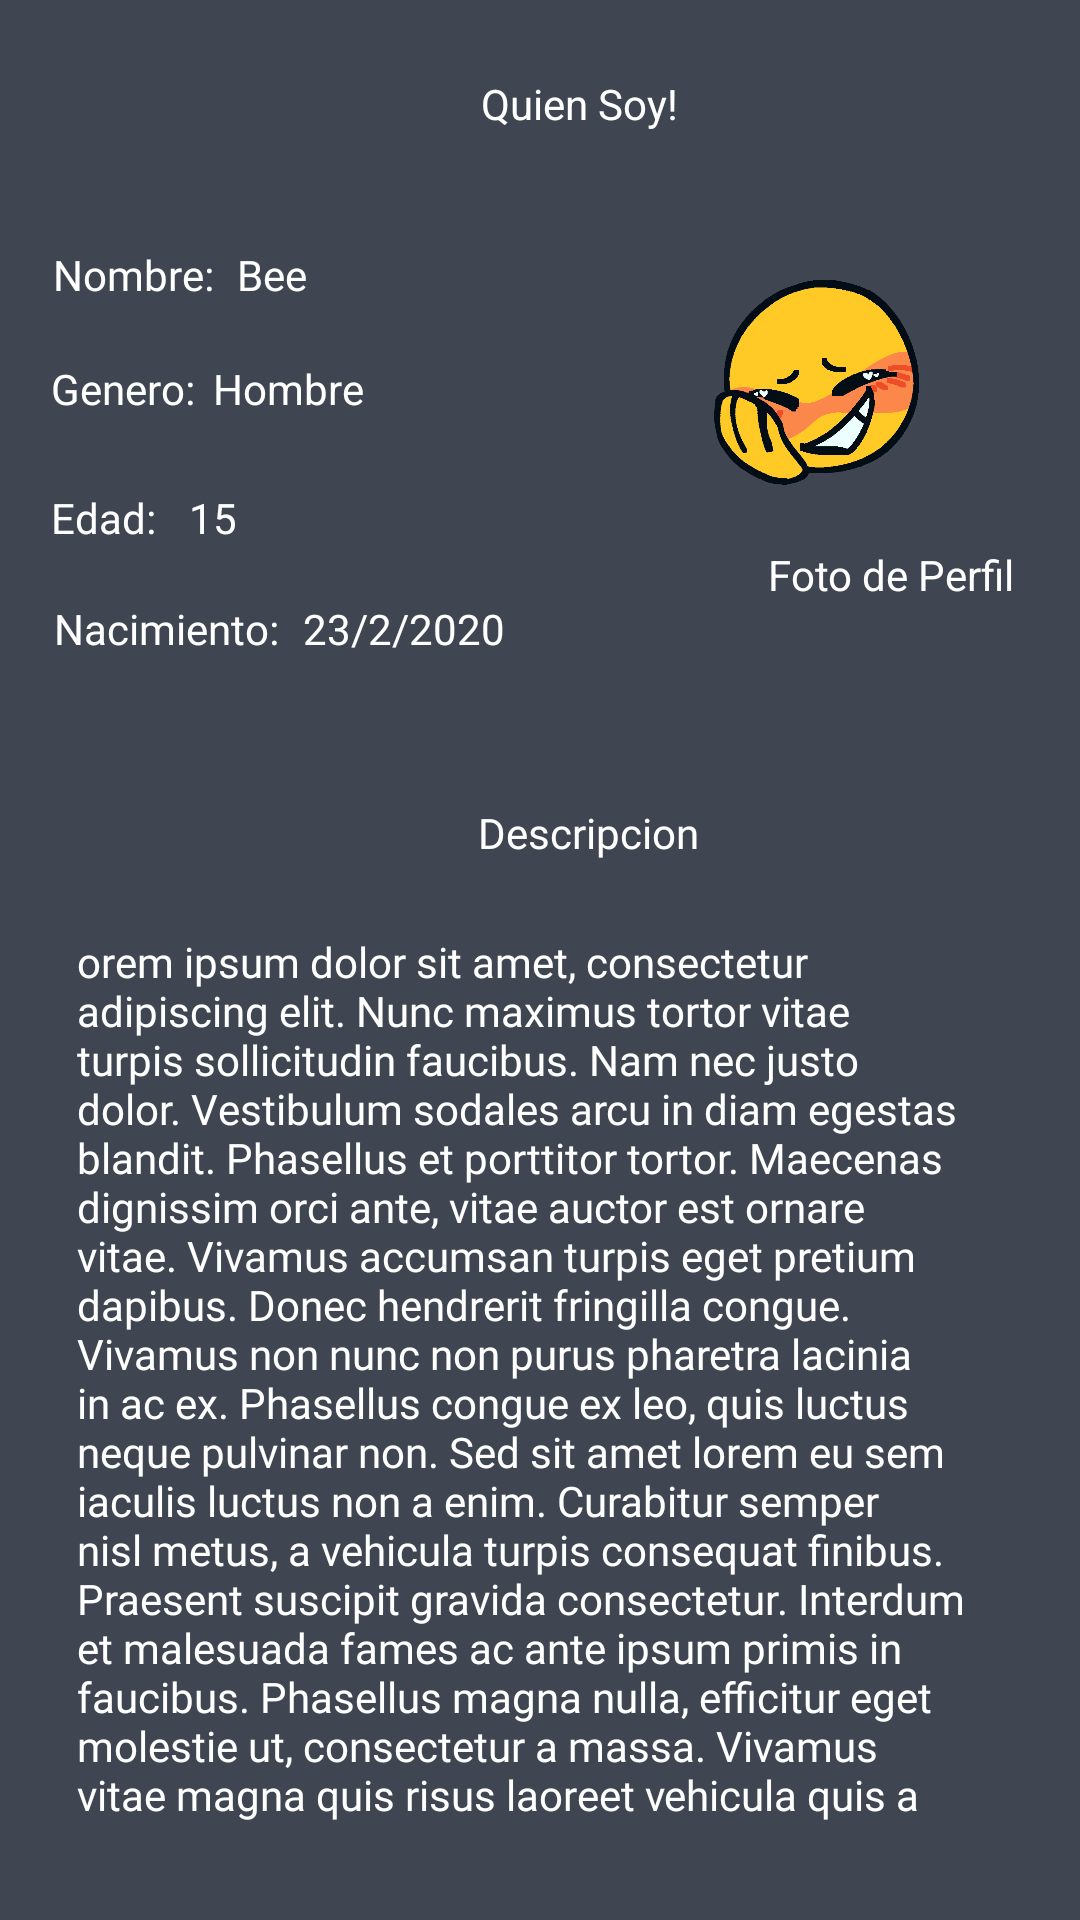

Named icons in this screenshot (1080px×1920px) and their centers, point (x, y):
cursed emoji hd quality: point (816, 382)
